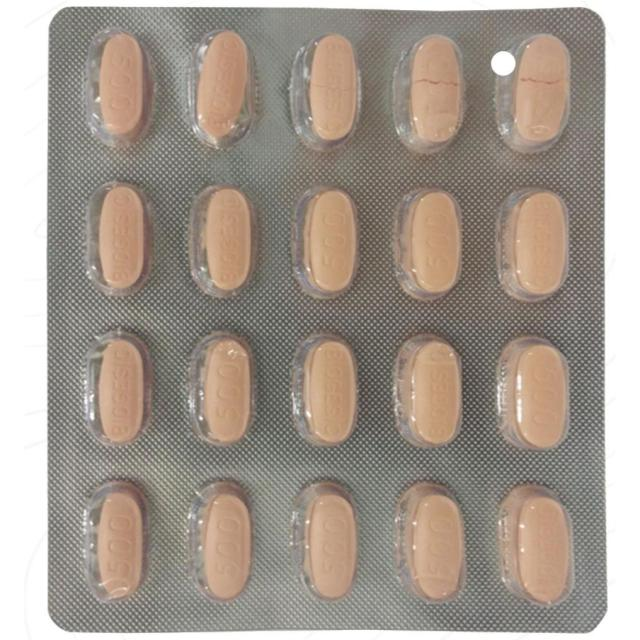blister: (44, 0, 612, 636)
